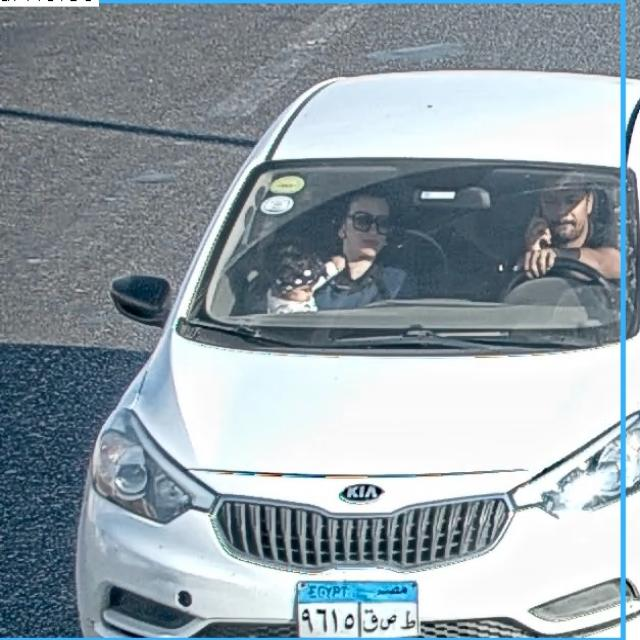windshield: (206, 168, 622, 341)
